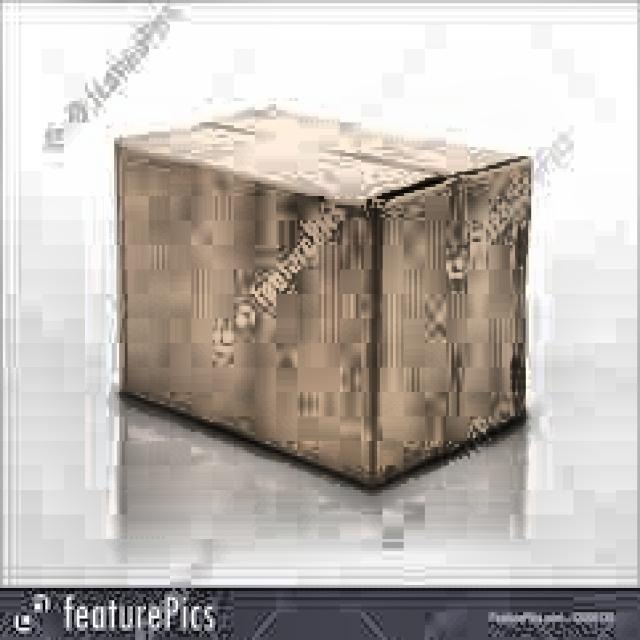Cardbox: (78, 86, 545, 498)
